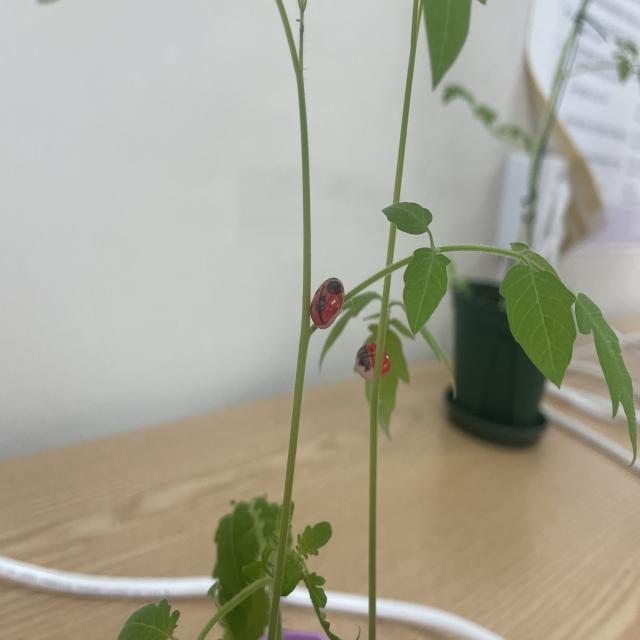bug: (298, 267, 346, 341), (352, 332, 394, 380)
